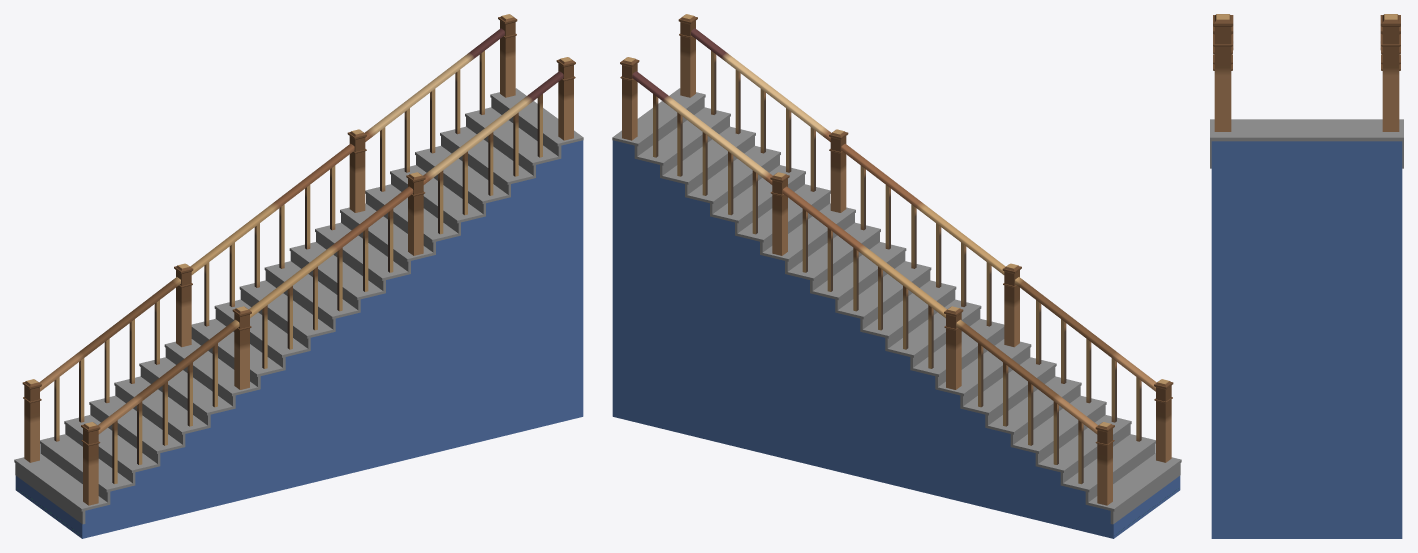
File: DBK_Stairs_Wood_Long.FBX
3 renders of one model, left to right at view 1: azimuth 30°, elevation 25°; view 2: azimuth 150°, elevation 25°; view 3: azimuth 270°, elevation 25°, orthographic. The views are drawn at different scales.
Parts seen in each view (by area): view 1: DBK_Stairs_Wood_Long_Drywall, DBK_Stairs_Wood_Long, DBK_Stairs_Wood_Long_Rail_L, DBK_Stairs_Wood_Long_Rail_R; view 2: DBK_Stairs_Wood_Long_Drywall, DBK_Stairs_Wood_Long, DBK_Stairs_Wood_Long_Rail_R, DBK_Stairs_Wood_Long_Rail_L; view 3: DBK_Stairs_Wood_Long_Drywall, DBK_Stairs_Wood_Long, DBK_Stairs_Wood_Long_Rail_L, DBK_Stairs_Wood_Long_Rail_R.
Boxes of the visible parts, x1=… form: DBK_Stairs_Wood_Long_Drywall: x1=15, y1=140, x2=583, y2=538; DBK_Stairs_Wood_Long: x1=14, y1=88, x2=583, y2=524; DBK_Stairs_Wood_Long_Rail_L: x1=22, y1=14, x2=517, y2=462; DBK_Stairs_Wood_Long_Rail_R: x1=81, y1=57, x2=575, y2=505; DBK_Stairs_Wood_Long_Drywall: x1=612, y1=140, x2=1180, y2=538; DBK_Stairs_Wood_Long: x1=612, y1=88, x2=1181, y2=524; DBK_Stairs_Wood_Long_Rail_R: x1=678, y1=14, x2=1173, y2=462; DBK_Stairs_Wood_Long_Rail_L: x1=620, y1=57, x2=1114, y2=505; DBK_Stairs_Wood_Long_Drywall: x1=1211, y1=141, x2=1402, y2=538; DBK_Stairs_Wood_Long: x1=1210, y1=119, x2=1403, y2=168; DBK_Stairs_Wood_Long_Rail_L: x1=1380, y1=14, x2=1400, y2=131; DBK_Stairs_Wood_Long_Rail_R: x1=1213, y1=14, x2=1233, y2=131.
Size of the model in its own units: 601 by 409 by 140.
4 materials, 1 textured.
